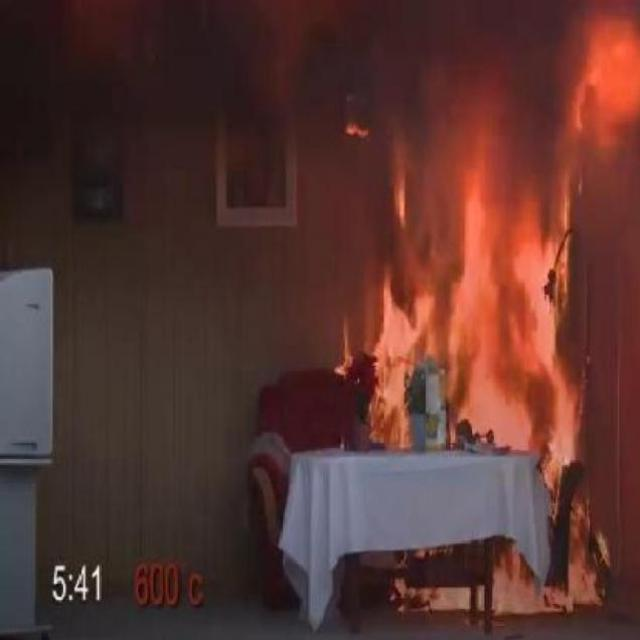smoke: (366, 184, 584, 491), (390, 532, 614, 619)
